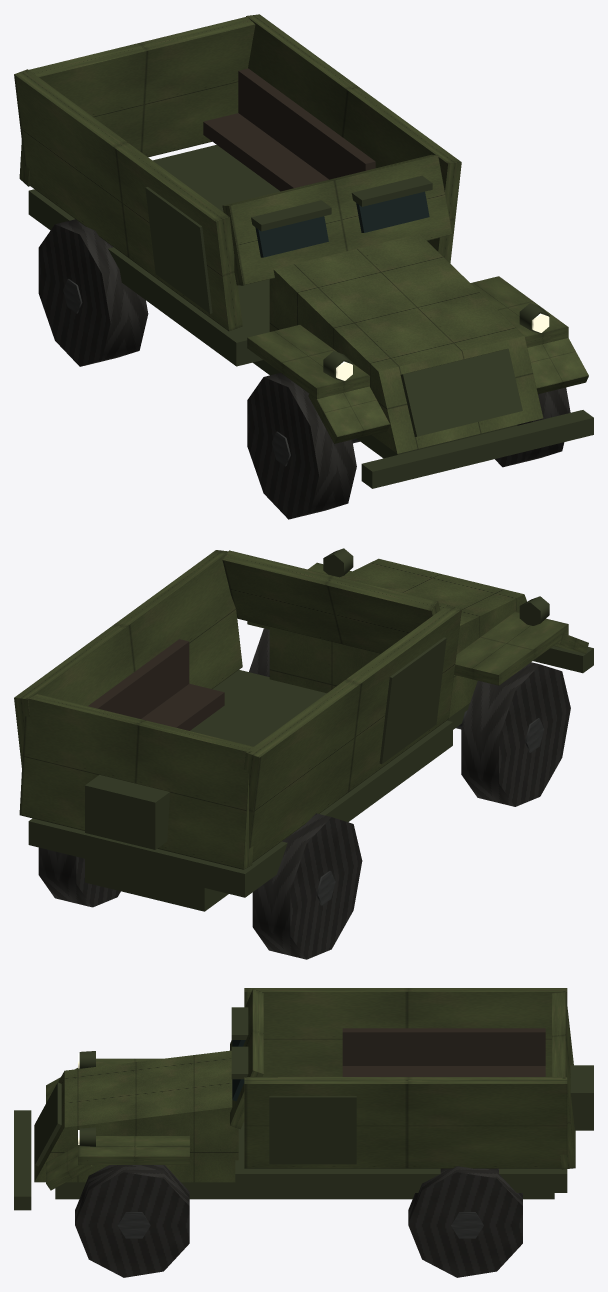
Rendered from btr40_lod2.glb.
The picture shows the model from 3 angles, top to bottom: view 1: azimuth 30°, elevation 25°; view 2: azimuth 150°, elevation 25°; view 3: azimuth 270°, elevation 25°; orthographic projection. The views are drawn at different scales.
Parts seen in each view (by area): view 1: BTR40_Scout; view 2: BTR40_Scout; view 3: BTR40_Scout.
Part boxes in pixels (x1=…): BTR40_Scout: x1=14, y1=14, x2=593, y2=519; BTR40_Scout: x1=14, y1=548, x2=593, y2=959; BTR40_Scout: x1=14, y1=988, x2=593, y2=1277.
Size of the model in its own units: 2.02 by 1.89 by 4.99.
Materials: 7 (3 with a texture image).
